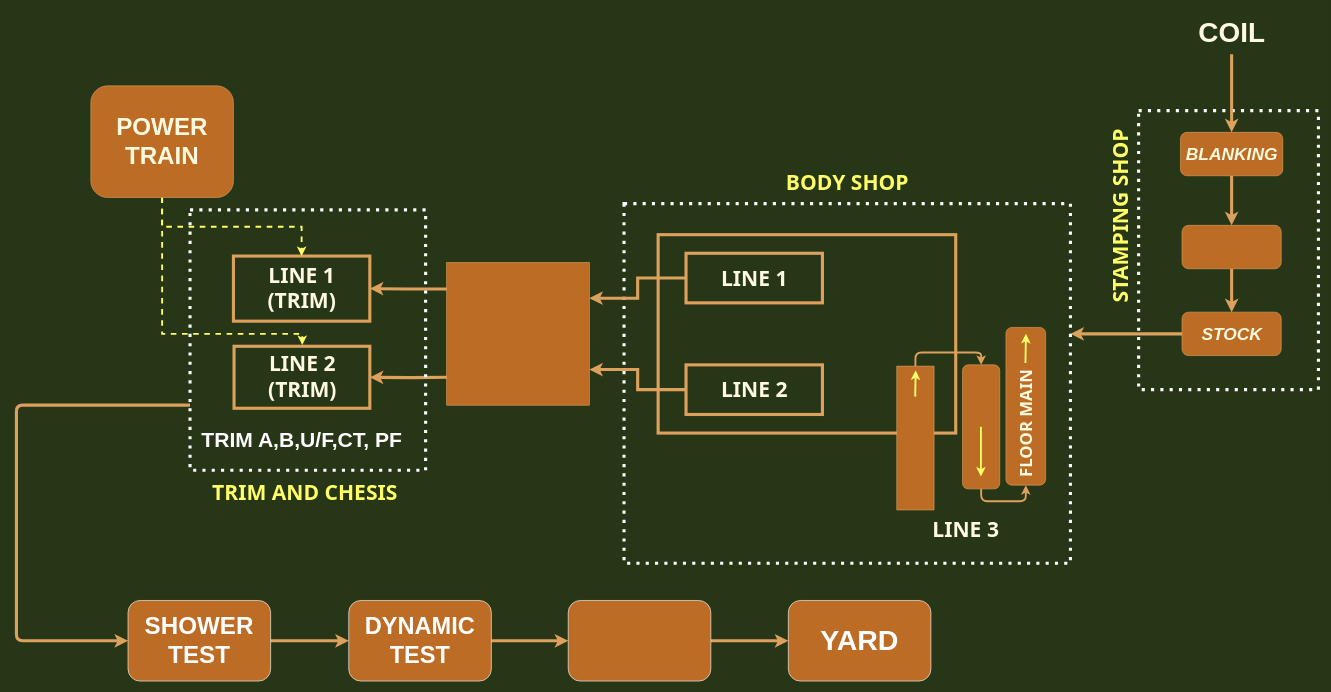
This 1331x692 diagram has some shape labels left out. The shapes that lost their labels are listed below. From the top down, each one's box as (x1, y1, x2, y2) in pixels, then its label:
(1181, 225, 1281, 269): PRESS
(446, 262, 589, 405): PAINT SHOP
(1005, 327, 1046, 485): BMR
(896, 365, 934, 510): METAL LINE
(568, 600, 711, 681): VQA
